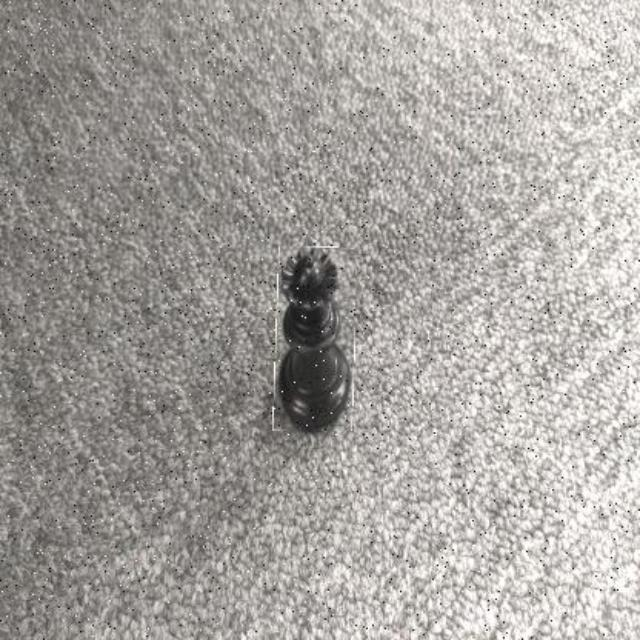black-queen: (274, 247, 355, 433)
